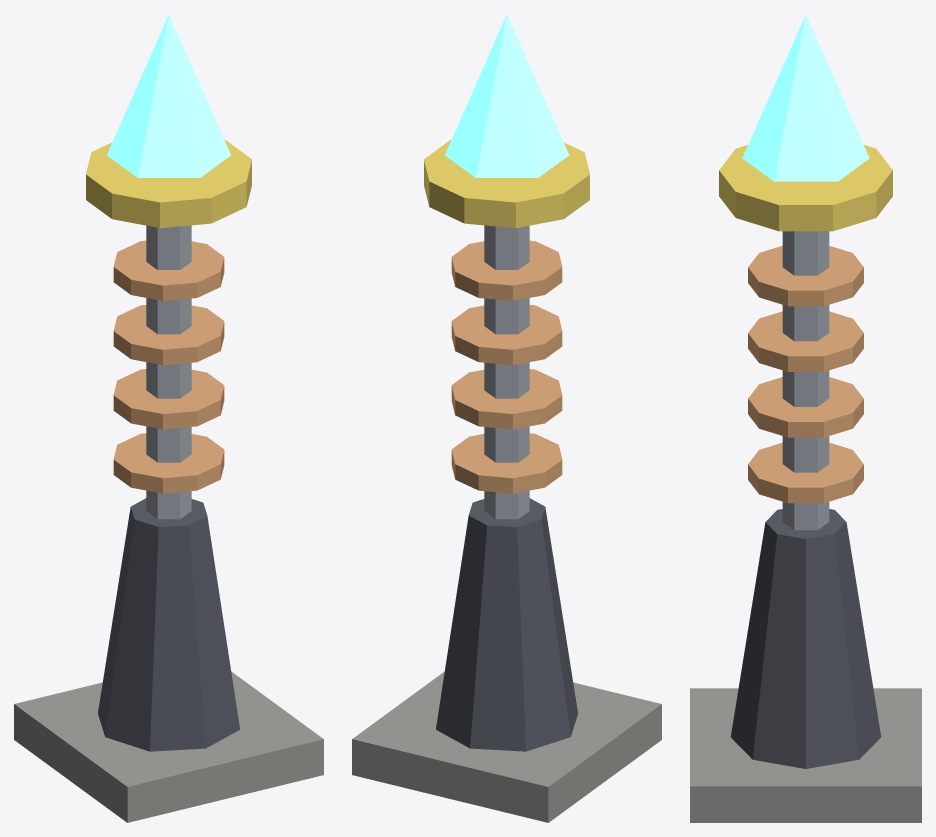
The model's file is torre_sem_fio.glb.
3 views of the same model, side by side, from view 1: azimuth 30°, elevation 25°; view 2: azimuth 150°, elevation 25°; view 3: azimuth 270°, elevation 25° (orthographic). The views are drawn at different scales.
Visible parts, largest first — view 1: torre_sem_fio_corpo, torre_sem_fio_cristal; view 2: torre_sem_fio_corpo, torre_sem_fio_cristal; view 3: torre_sem_fio_corpo, torre_sem_fio_cristal.
Part boxes in pixels (x1,y1,x2,y2): torre_sem_fio_corpo: [14, 140, 323, 822]; torre_sem_fio_cristal: [107, 14, 230, 177]; torre_sem_fio_corpo: [352, 140, 661, 822]; torre_sem_fio_cristal: [445, 14, 568, 177]; torre_sem_fio_corpo: [690, 145, 921, 822]; torre_sem_fio_cristal: [742, 14, 869, 181].
Bounding box in the file's own units: 0.8 × 2.89 × 0.8.
